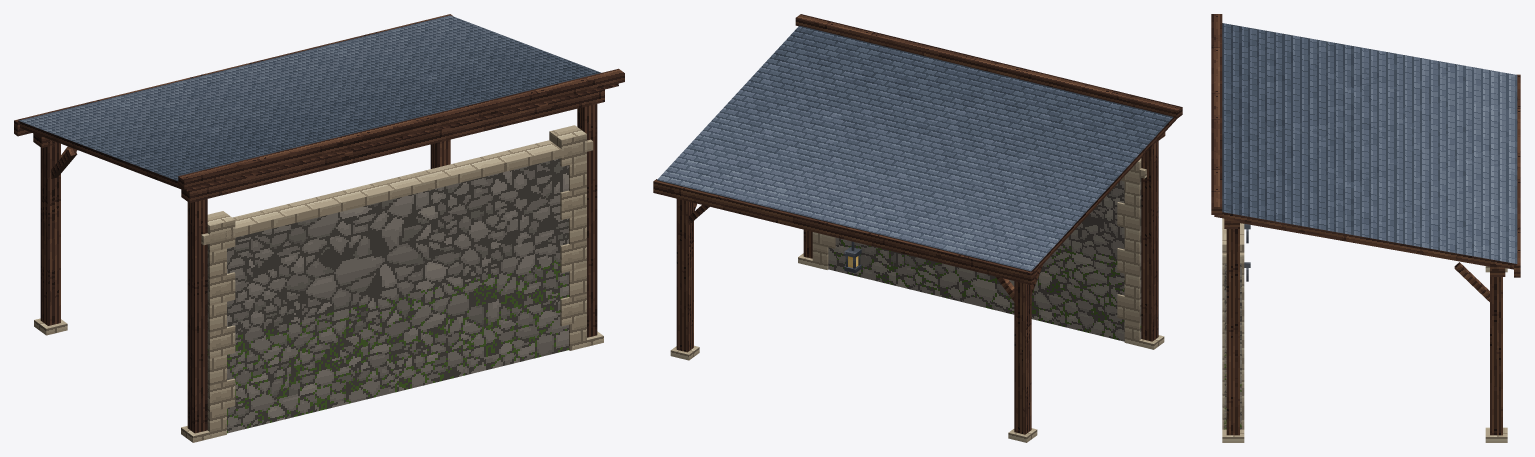
The model's file is workshop_shelter_forge.glb.
3 views of the same model, side by side, from view 1: azimuth 30°, elevation 25°; view 2: azimuth 150°, elevation 25°; view 3: azimuth 270°, elevation 25° (orthographic). The views are drawn at different scales.
Parts seen in each view (by area): view 1: wall_stone, roof_slab_left, roof_slab_right, wall_coping, roof_ridge, back_beam, post_back_left, post_front_left, post_back_right, quoin_r_8, quoin_l_8, roof_fascia (+6 smaller); view 2: roof_slab_left, roof_slab_right, wall_stone, roof_fascia, roof_ridge, post_back_left, post_front_left, post_front_right, quoin_l_4, quoin_l_6, quoin_l_2; view 3: roof_slab_right, roof_slab_left, post_back_right, roof_ridge, post_front_right, roof_fascia, wall_stone, side_beam_right, knee_side_right.
Boxes of the visible parts, bbox=[...] form: wall_stone: bbox=[207, 158, 568, 433]; roof_slab_left: bbox=[18, 68, 402, 191]; roof_slab_right: bbox=[235, 15, 618, 138]; wall_coping: bbox=[201, 139, 593, 245]; roof_ridge: bbox=[178, 68, 624, 189]; back_beam: bbox=[181, 89, 604, 202]; post_back_left: bbox=[187, 199, 207, 433]; post_front_left: bbox=[40, 139, 60, 325]; post_back_right: bbox=[577, 104, 597, 337]; quoin_r_8: bbox=[549, 125, 586, 166]; quoin_l_8: bbox=[207, 211, 235, 252]; roof_fascia: bbox=[14, 14, 453, 136]; roof_slab_left: bbox=[844, 71, 1176, 272]; roof_slab_right: bbox=[657, 25, 985, 225]; wall_stone: bbox=[828, 177, 1141, 341]; roof_fascia: bbox=[653, 179, 1034, 284]; roof_ridge: bbox=[795, 14, 1182, 118]; post_back_left: bbox=[1141, 141, 1158, 341]; post_front_left: bbox=[1014, 281, 1031, 434]; post_front_right: bbox=[676, 198, 693, 352]; quoin_l_4: bbox=[1117, 248, 1140, 276]; quoin_l_6: bbox=[1117, 202, 1140, 230]; quoin_l_2: bbox=[1117, 294, 1140, 322]; roof_slab_right: bbox=[1214, 117, 1517, 269]; roof_slab_left: bbox=[1222, 23, 1517, 169]; post_back_right: bbox=[1226, 229, 1239, 435]; roof_ridge: bbox=[1211, 14, 1222, 214]; post_front_right: bbox=[1490, 277, 1502, 435]; roof_fascia: bbox=[1514, 74, 1520, 277]; wall_stone: bbox=[1224, 263, 1241, 429]; side_beam_right: bbox=[1240, 221, 1489, 266]; knee_side_right: bbox=[1454, 262, 1489, 301].
Size of the model in its own units: 6.5 by 3.81 by 4.41.
1 material, 1 textured.
